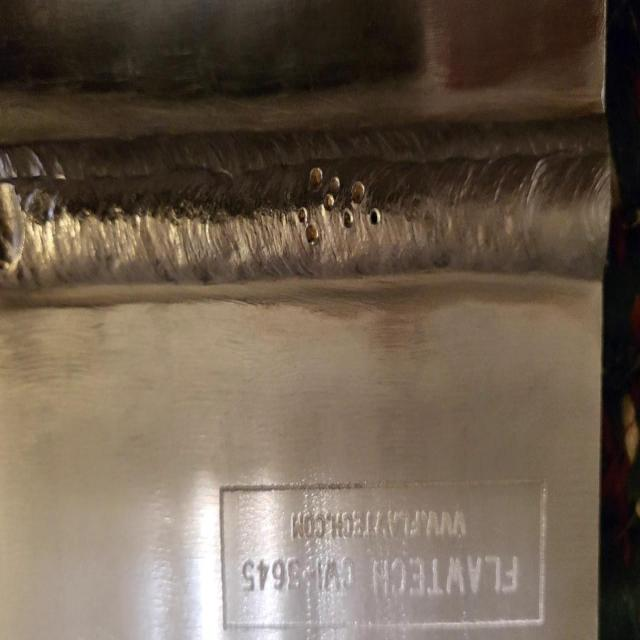Welding Line: (1, 159, 610, 279)
Workpiece: (1, 2, 600, 640)
porosity: (296, 166, 380, 246), (0, 180, 25, 275)
